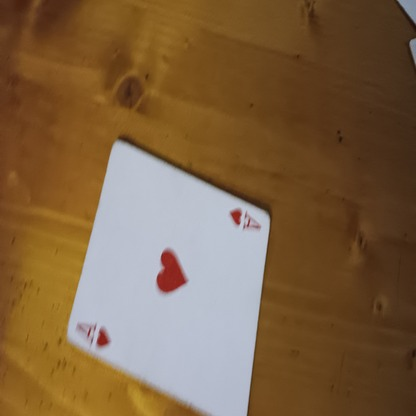Ah: (72, 320, 112, 348), (227, 205, 264, 235)
